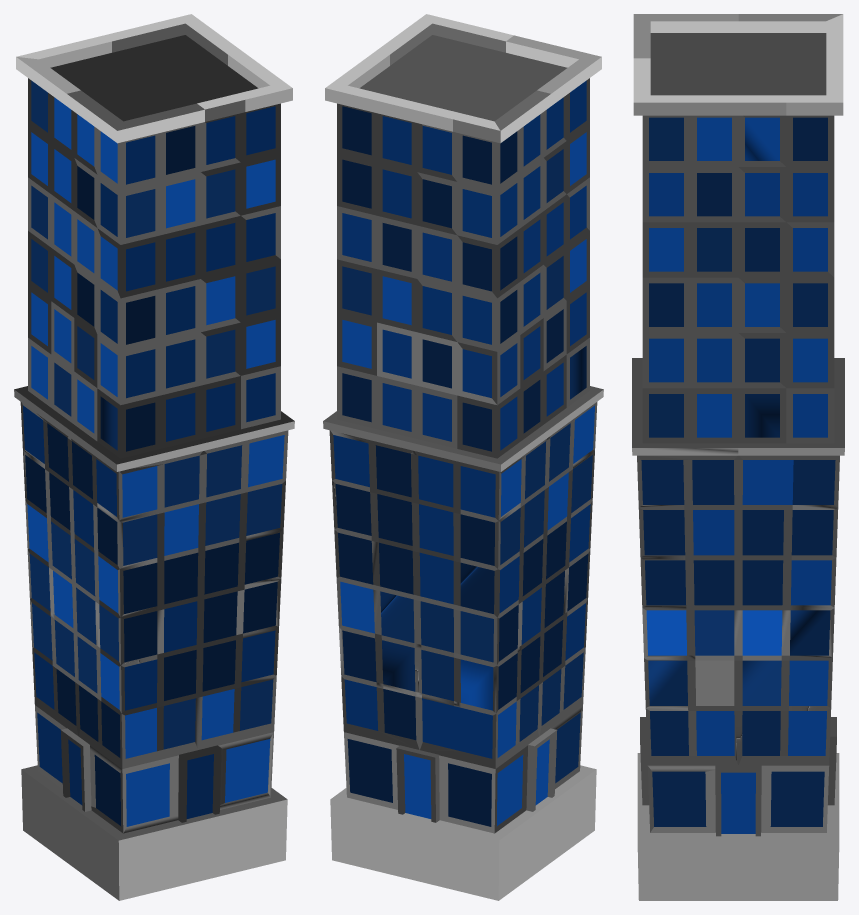
The model's file is building2.fbx.
The picture shows the model from 3 angles, left to right: view 1: azimuth 30°, elevation 25°; view 2: azimuth 150°, elevation 25°; view 3: azimuth 270°, elevation 25°; orthographic projection. The views are drawn at different scales.
Visible parts, largest first — view 1: SM_Bld_OfficeSquare_01; view 2: SM_Bld_OfficeSquare_01; view 3: SM_Bld_OfficeSquare_01.
Boxes of the visible parts, left/top/right/bottom form: SM_Bld_OfficeSquare_01: left=14, top=14, right=294, bottom=900; SM_Bld_OfficeSquare_01: left=323, top=14, right=603, bottom=900; SM_Bld_OfficeSquare_01: left=632, top=14, right=844, bottom=900.
Size of the model in its own units: 122 by 506 by 122.
